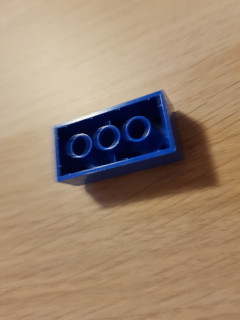2x4 blue: (53, 88, 187, 188)
